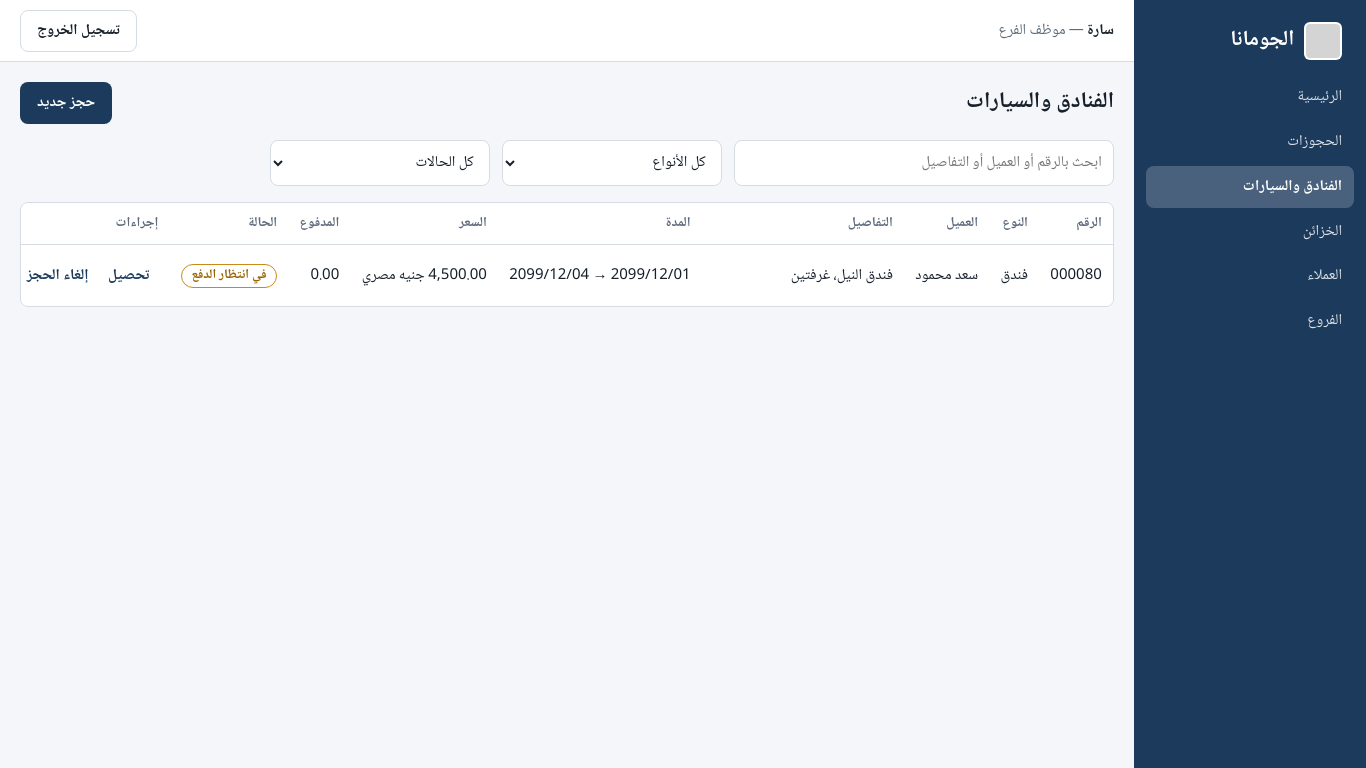
hotel and car bookings › keeps a booking reserved when no treasury is chosen, and collects it later
This screenshot has width=1366, height=768.
Click the button "تحصيل".
click(129, 276)  # box [99,255,158,297]
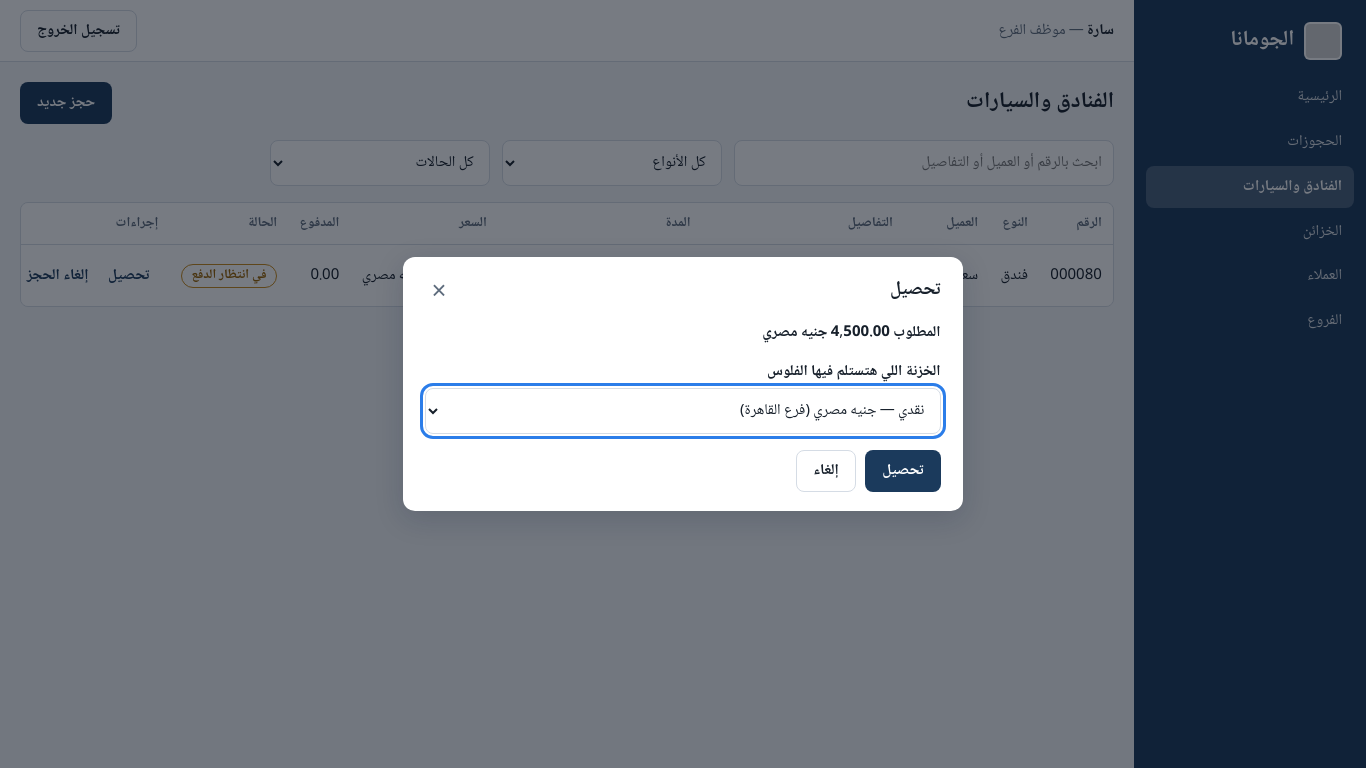
expect the text "المطلوب 4,500.00 جنيه مصري" is shown: met, box [762,320,941,346]
expect the button "تحصيل" is enabled: met
Note: The single treasury in the booking's currency is picked for the clerk.
Click the button "تحصيل".
click(903, 471)  # box [865,450,941,492]
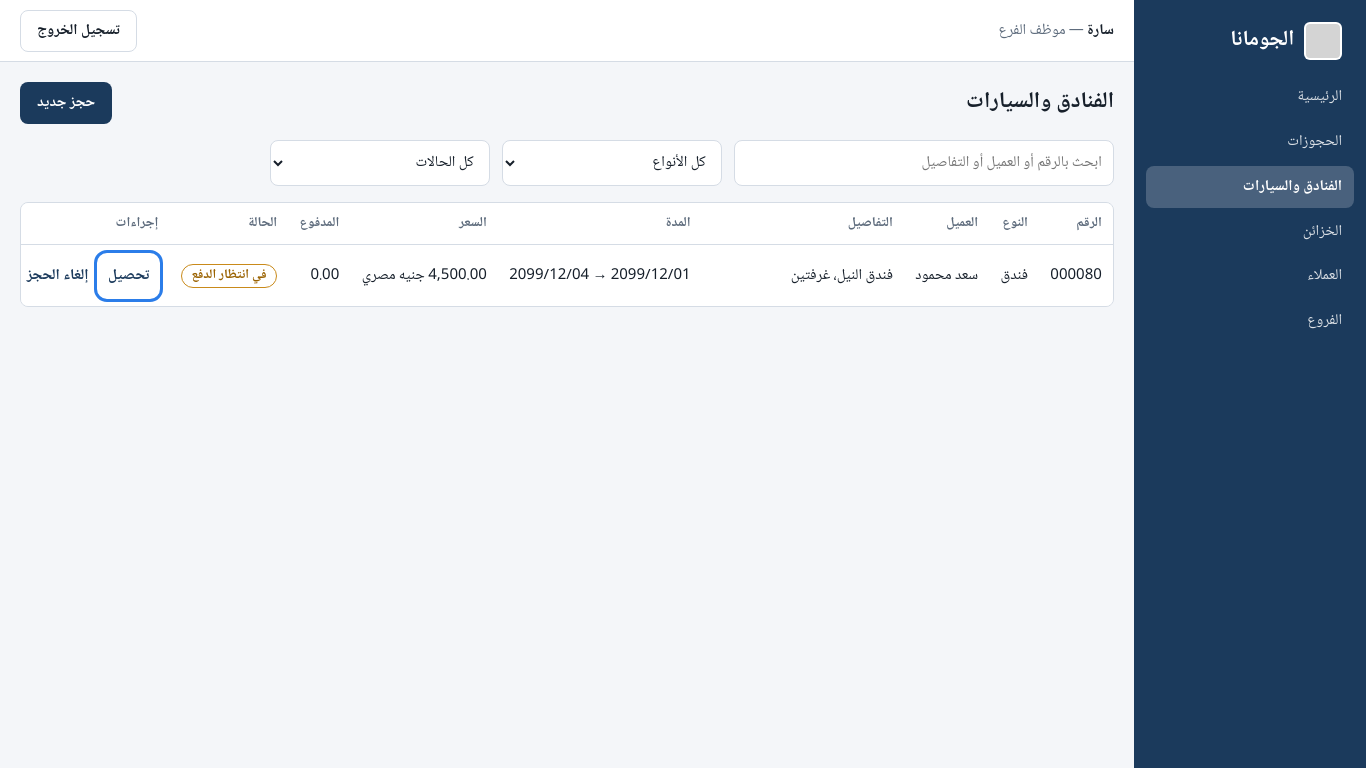
expect the dialog is gone: met
